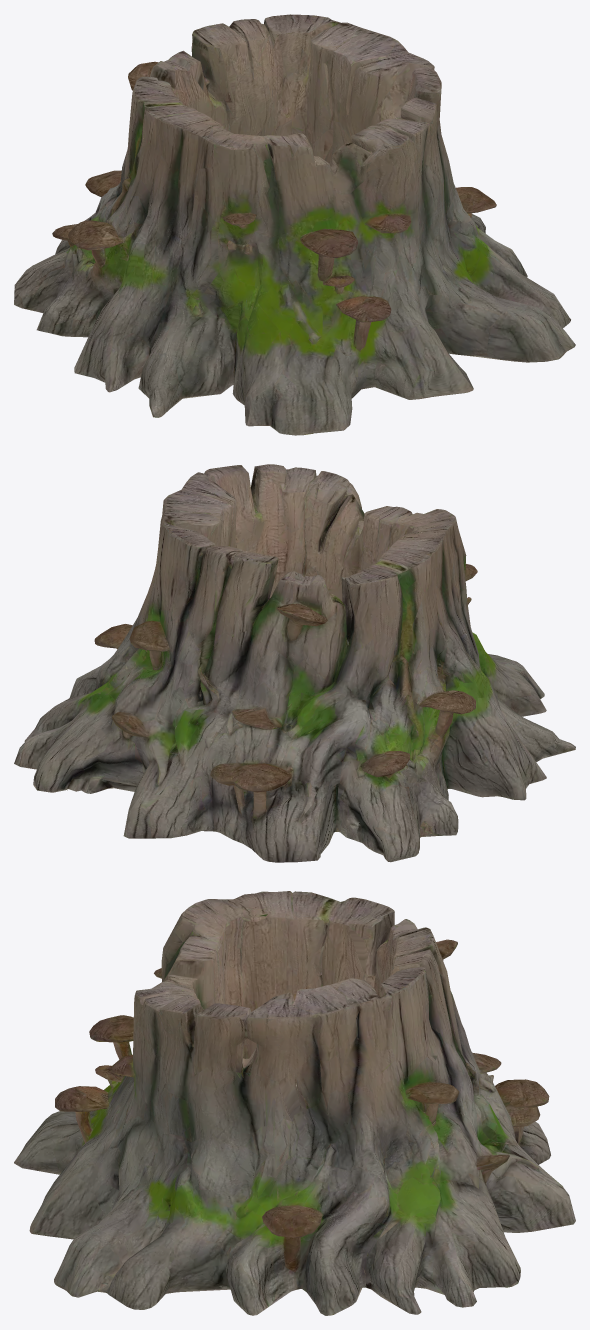
File: forest-stump-lod.glb
The picture shows the model from 3 angles, top to bottom: view 1: azimuth 30°, elevation 25°; view 2: azimuth 150°, elevation 25°; view 3: azimuth 270°, elevation 25°; orthographic projection. The views are drawn at different scales.
Parts seen in each view (by area): view 1: forest-stump-Mesh_0.011; view 2: forest-stump-Mesh_0.011; view 3: forest-stump-Mesh_0.011.
Boxes of the visible parts, x1,y1,x2,y2 form: forest-stump-Mesh_0.011: [14, 14, 575, 435]; forest-stump-Mesh_0.011: [14, 464, 575, 862]; forest-stump-Mesh_0.011: [14, 891, 575, 1315].
Bounding box in the file's own units: 2.01 × 1.07 × 2.1.
1 material, 1 textured.
